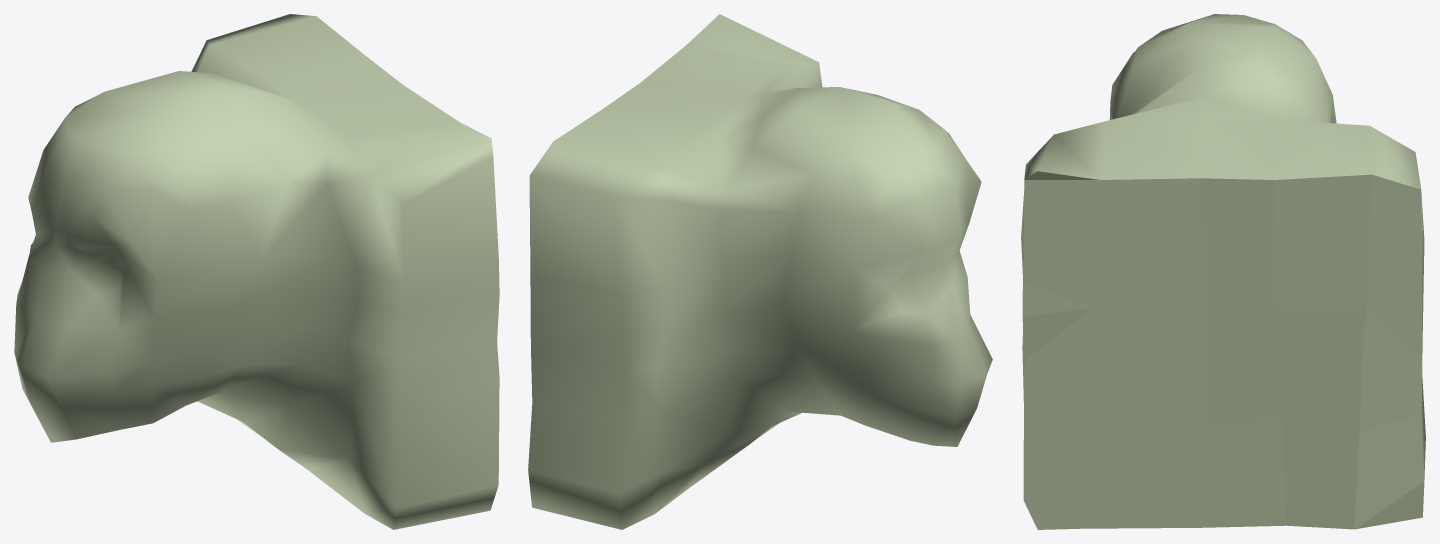
File: Statue_06_Lod1.fbx
3 renders of one model, left to right at view 1: azimuth 30°, elevation 25°; view 2: azimuth 150°, elevation 25°; view 3: azimuth 270°, elevation 25°, orthographic. The views are drawn at different scales.
Visible parts, largest first — view 1: Statue_06_Lod1; view 2: Statue_06_Lod1; view 3: Statue_06_Lod1.
Part boxes in pixels (<box>): Statue_06_Lod1: <box>14,14,499,529</box>; Statue_06_Lod1: <box>528,14,992,529</box>; Statue_06_Lod1: <box>1021,14,1425,529</box>.
Bounding box in the file's own units: 60.99 × 63.11 × 58.99.
